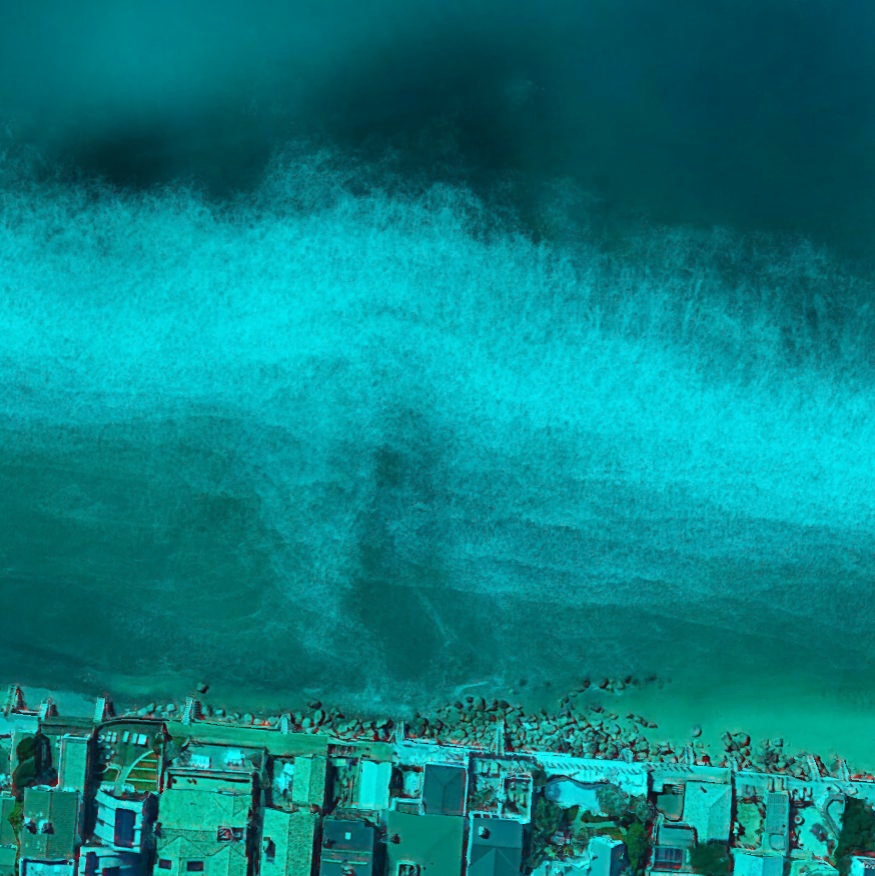rip_current: (311, 333, 505, 695)
